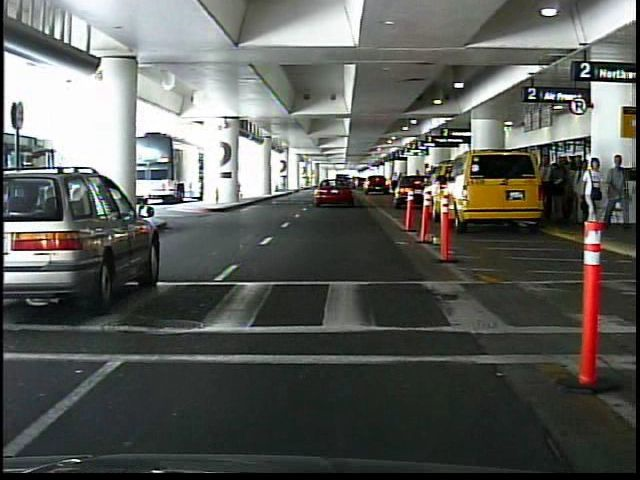person: (605, 151, 629, 229), (583, 154, 604, 229)
